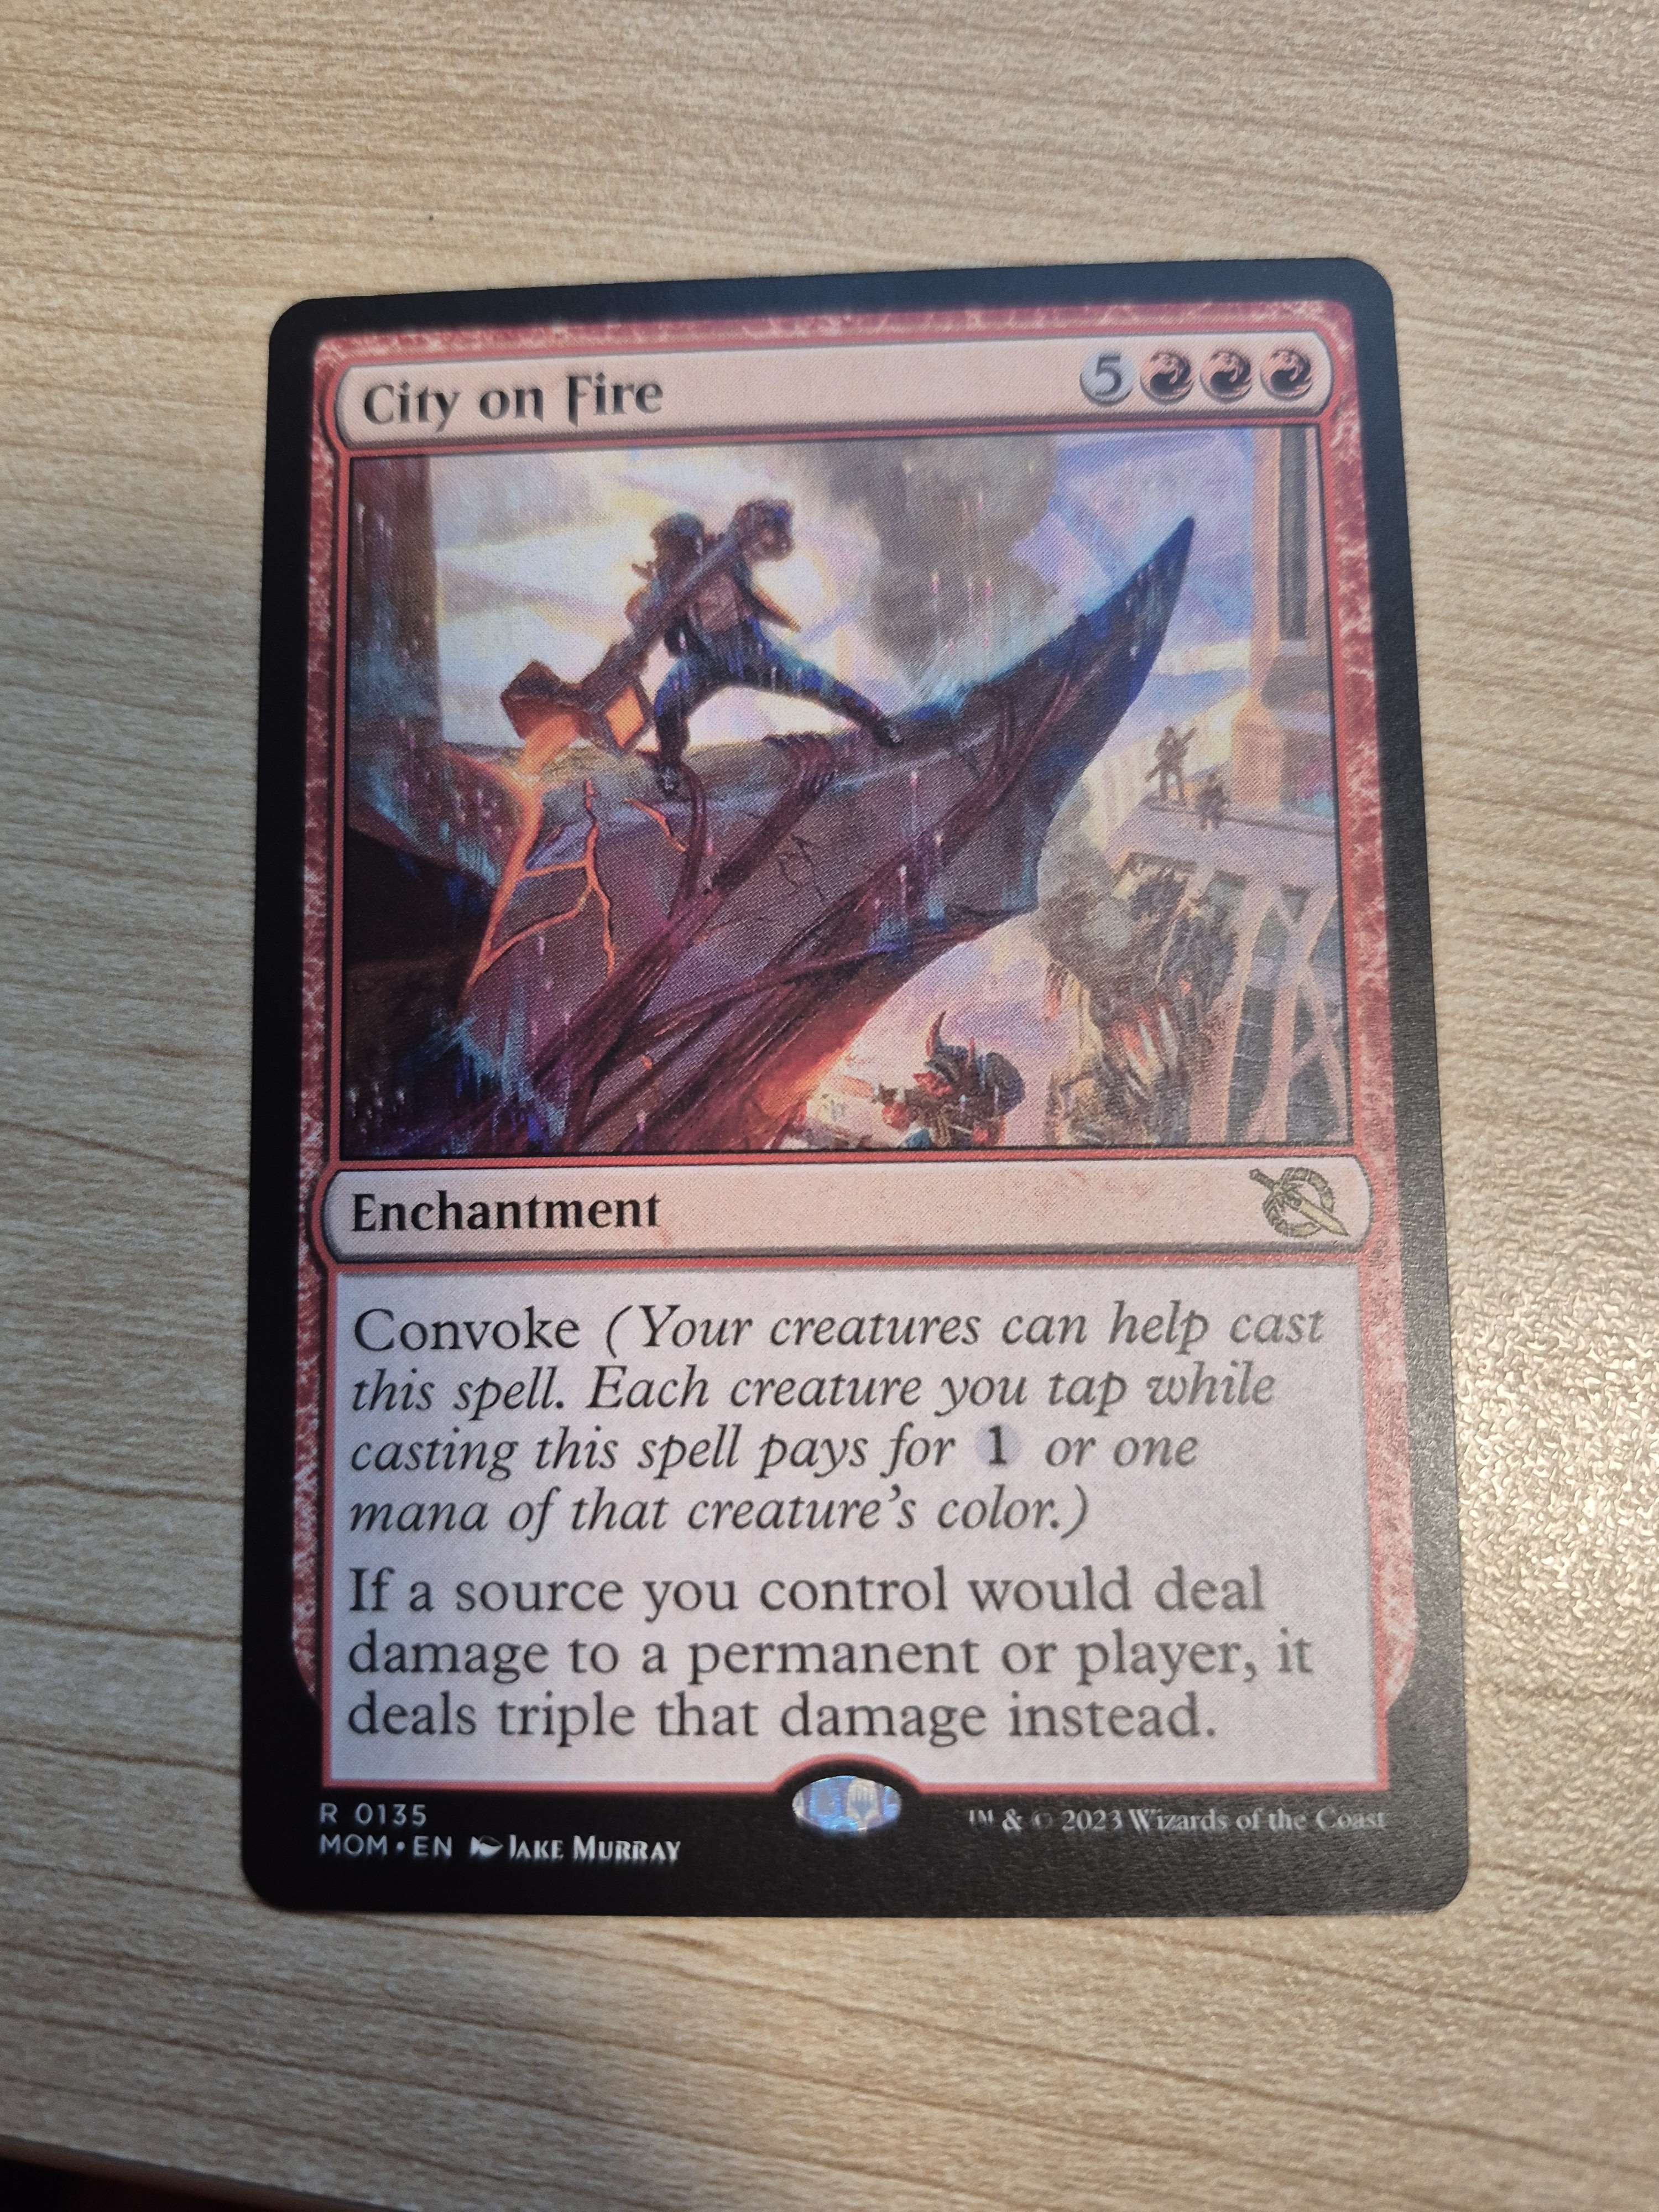mtg_card: (237, 273, 1485, 1942)
